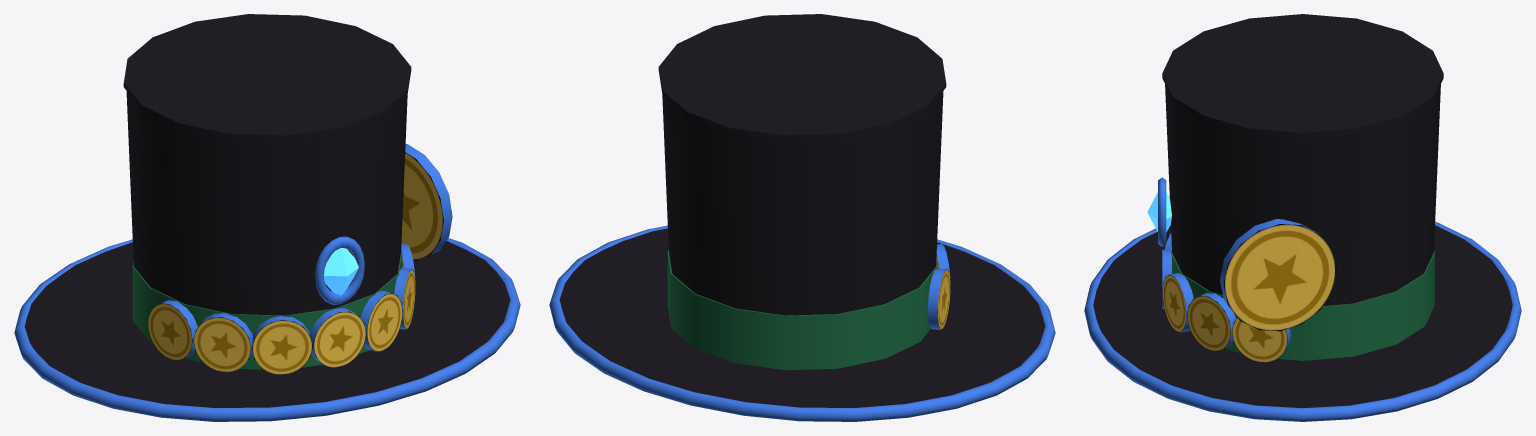
Rendered from hat_eqtz1.glb.
3 views of the same model, side by side, from view 1: azimuth 30°, elevation 25°; view 2: azimuth 150°, elevation 25°; view 3: azimuth 270°, elevation 25° (orthographic). The views are drawn at different scales.
Bounding box in the file's own units: 2.99 × 1.58 × 2.57.
Materials: 5 (1 with a texture image).
